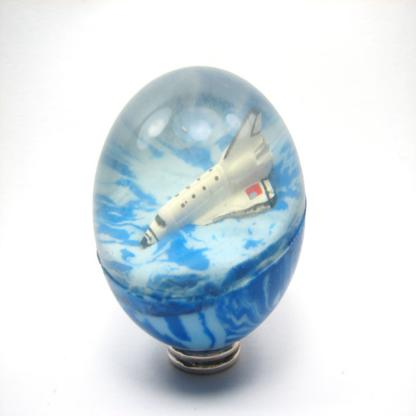Ball: (92, 67, 307, 353)
